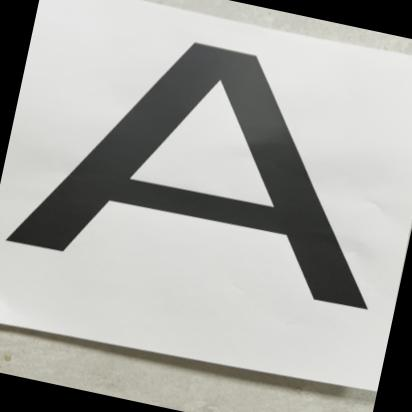seat: (0, 18, 412, 379)
